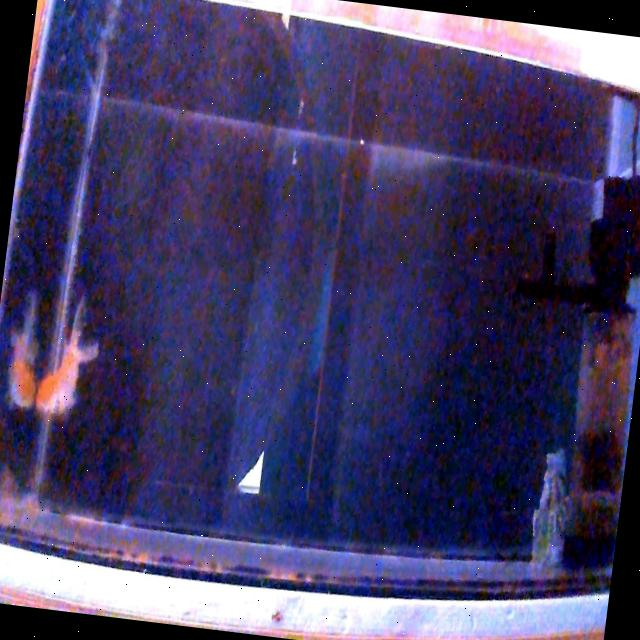fish: (33, 294, 105, 422), (0, 291, 49, 411)
